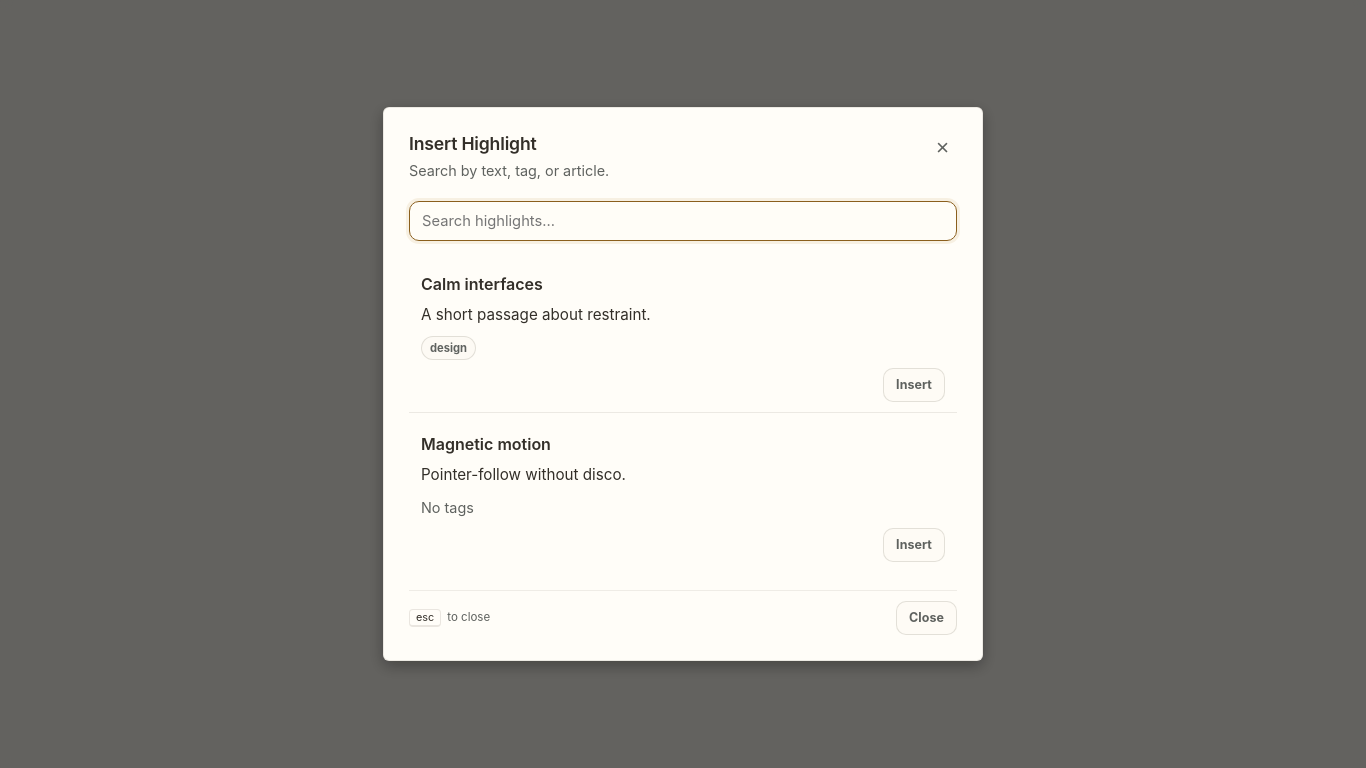
InsertHighlightModal › filters highlights by query (text, article, tag)
The width and height of the screenshot is (1366, 768).
Type "magnet" into the field with placeholder "Search highlights..." at {"x": 683, "y": 221}, box [409,201,957,241]
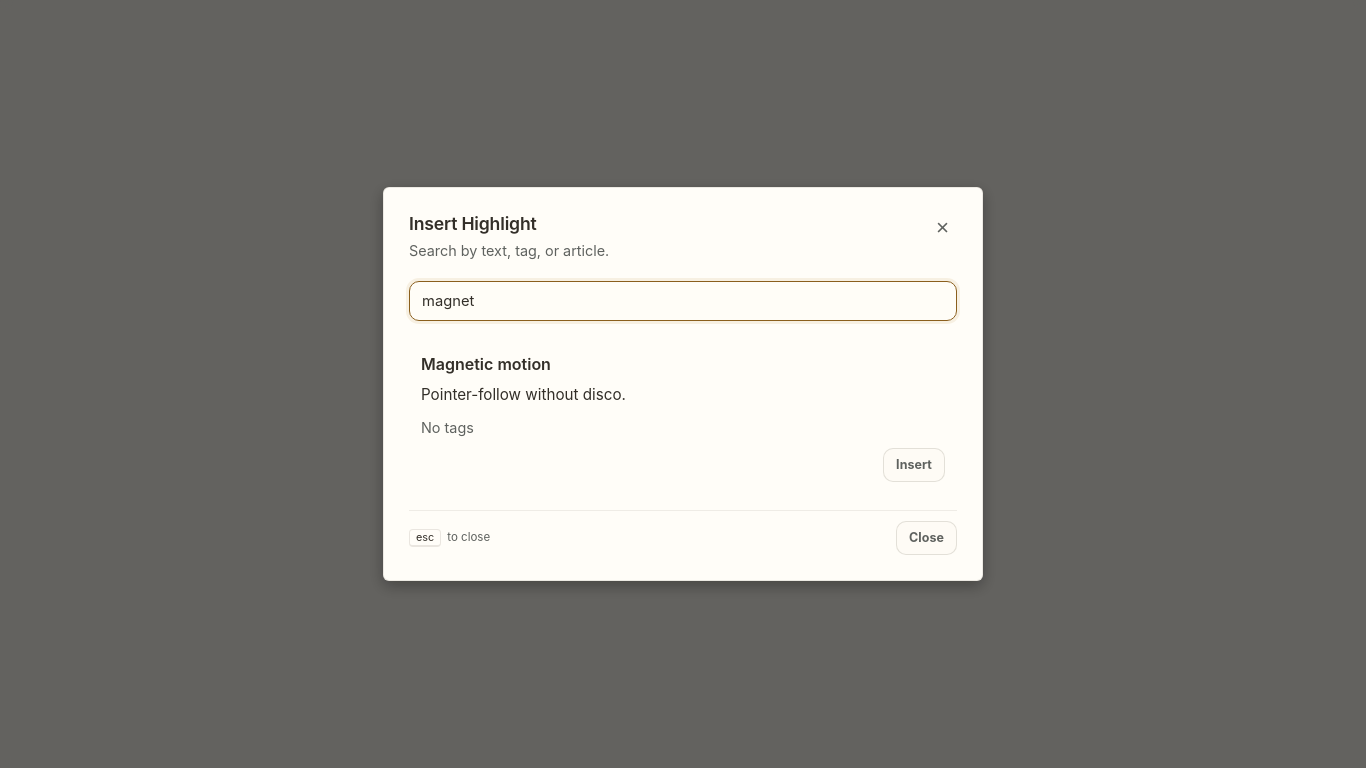
Expected: the text "Magnetic motion" is shown, [421,354,551,374]
Expected: the button "Calm interfaces" is gone
